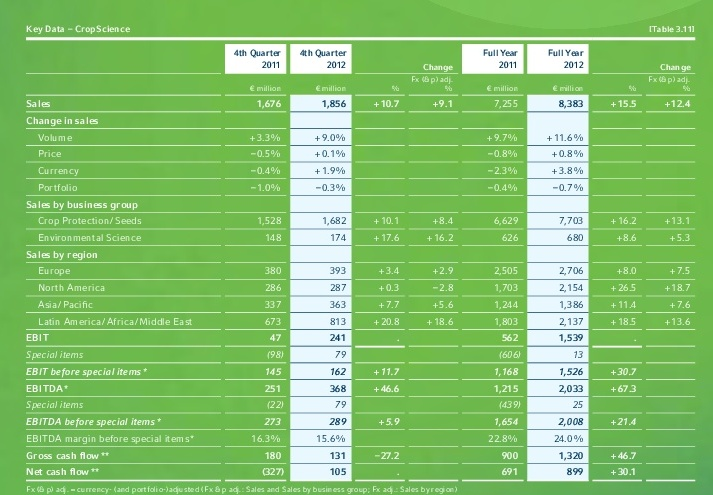table: (0, 0, 713, 495)
